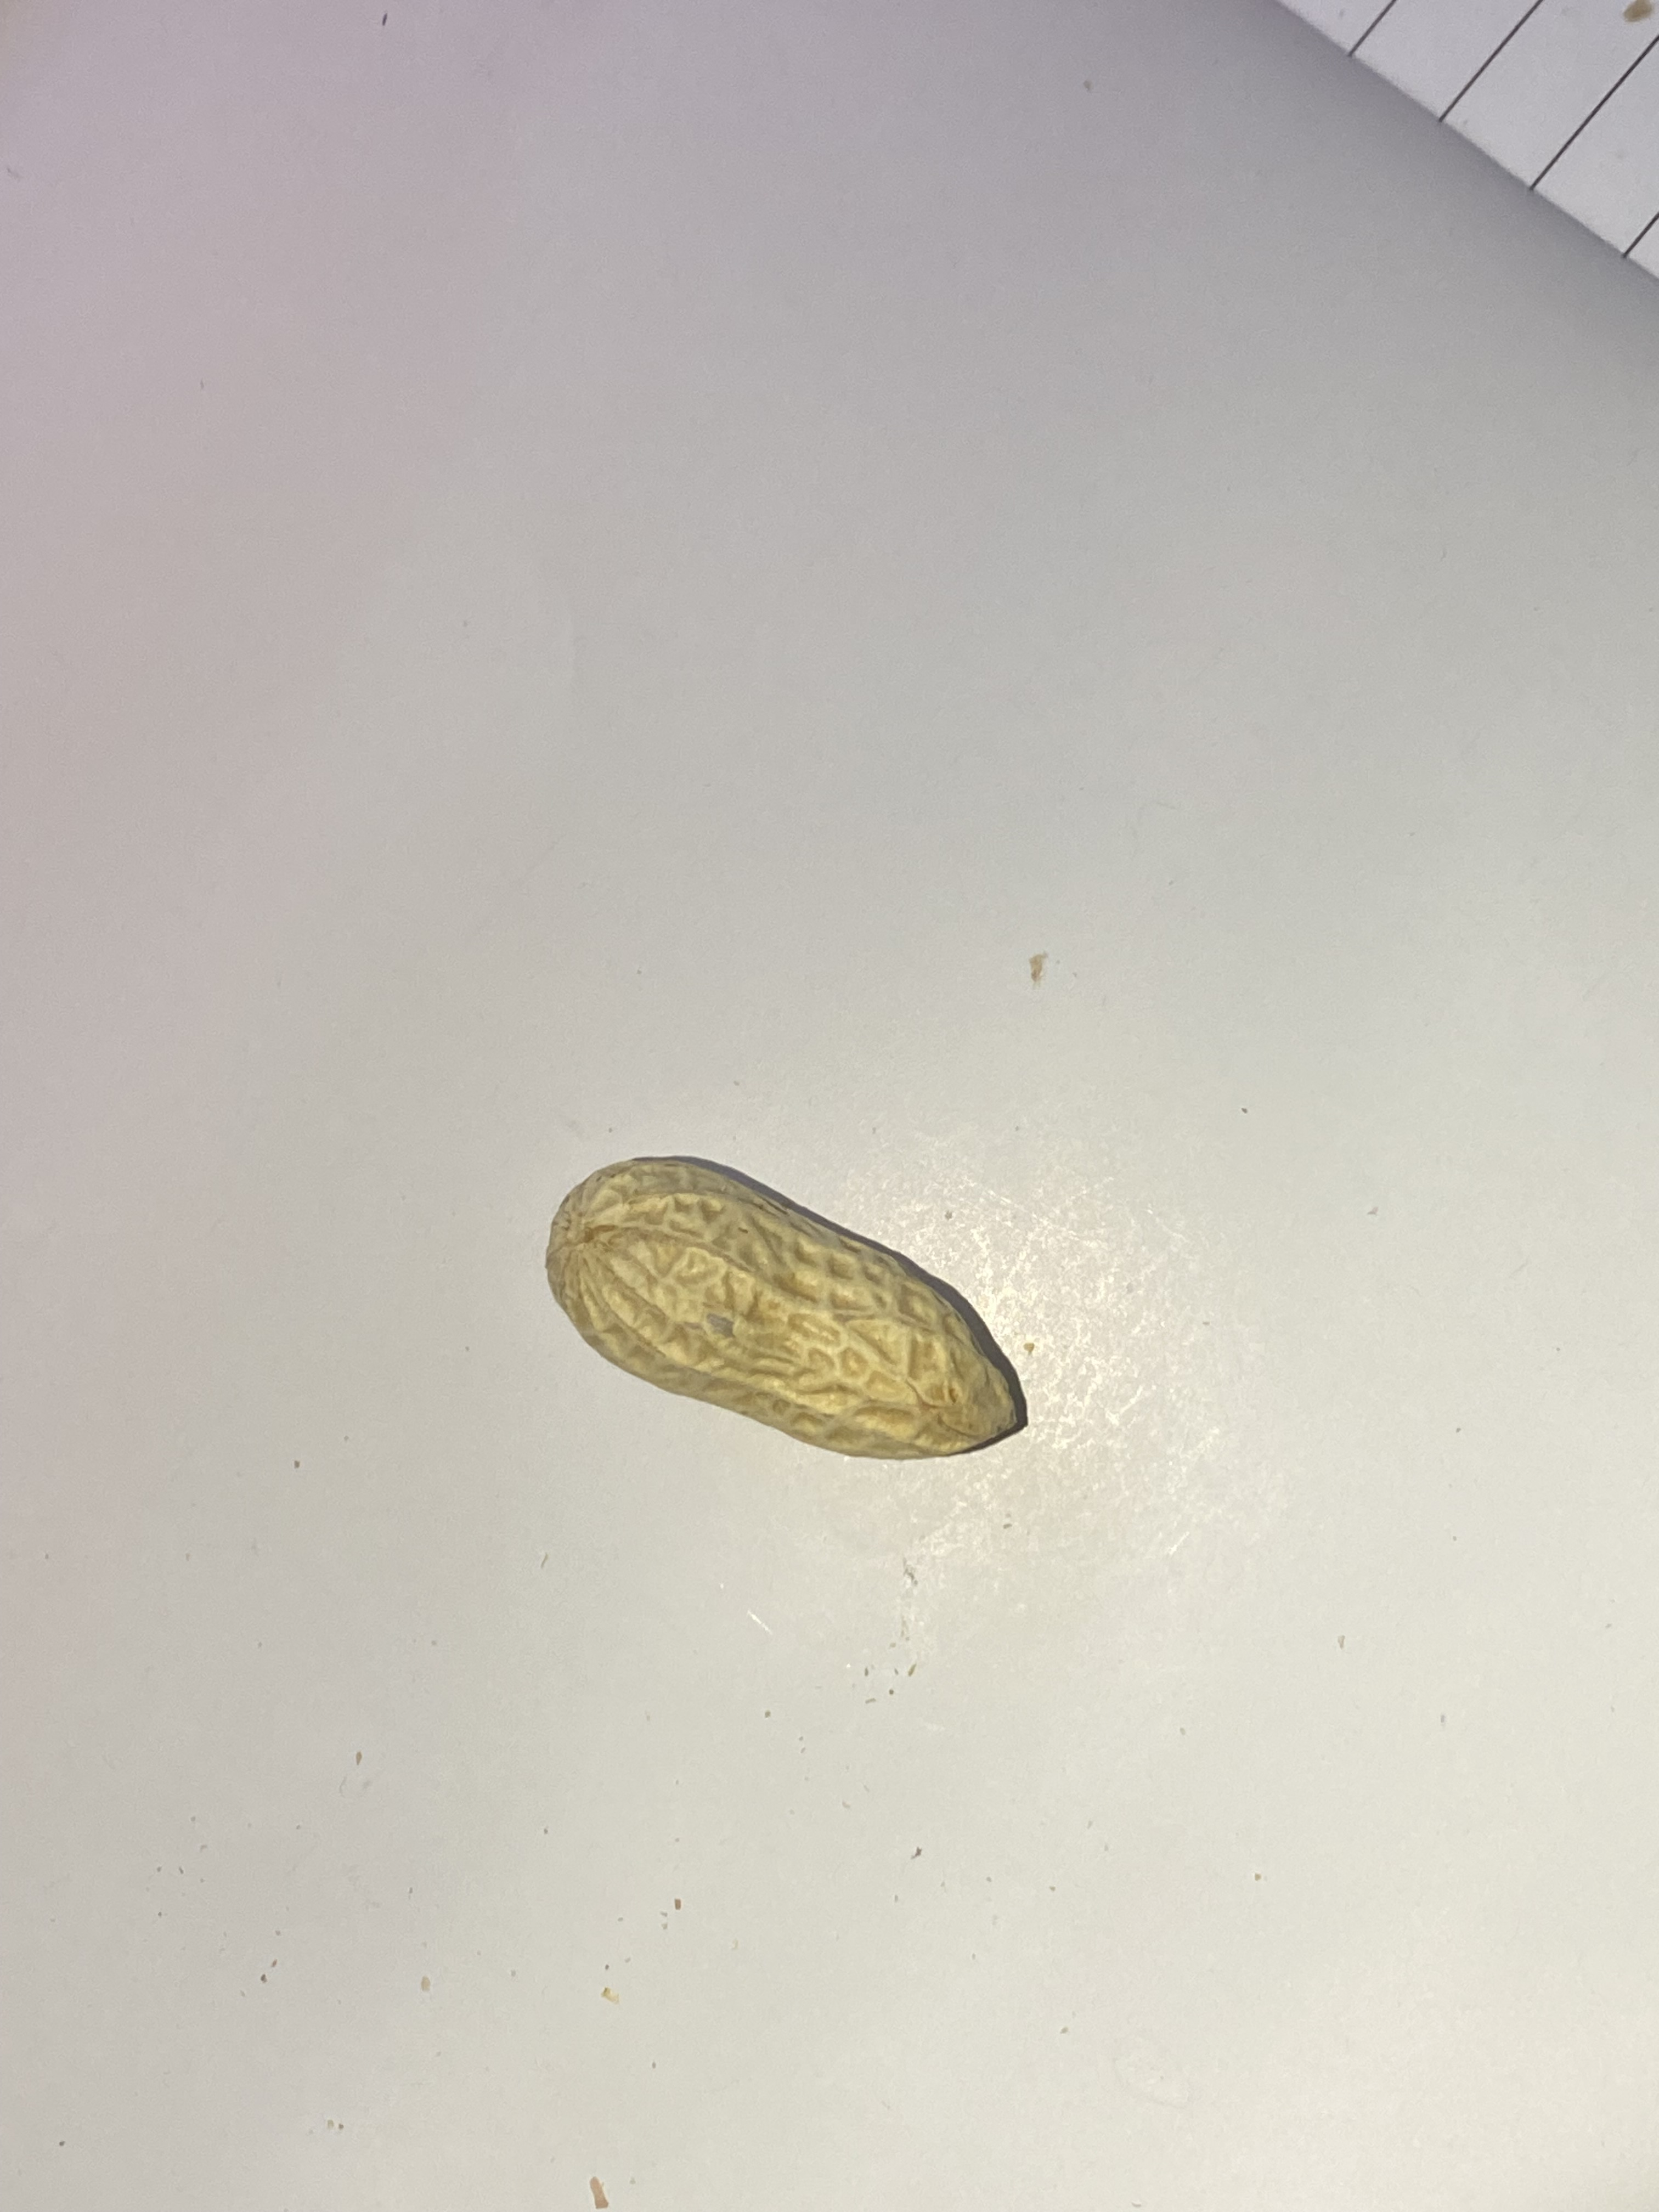kacang2: (533, 1134, 1026, 1489)
